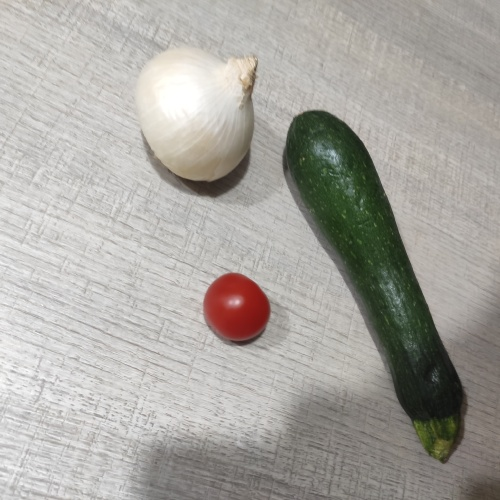cipolla: (140, 30, 256, 200)
pomodoro: (196, 264, 276, 344)
zucchine: (292, 115, 482, 453)
